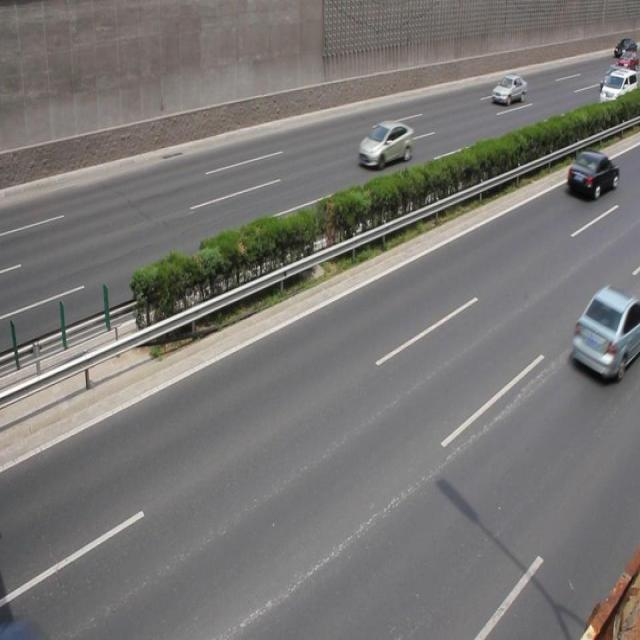car: (571, 284, 640, 381), (564, 148, 618, 200), (357, 119, 412, 167), (491, 74, 525, 105)
